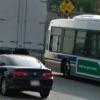cars: (0, 53, 54, 99)
